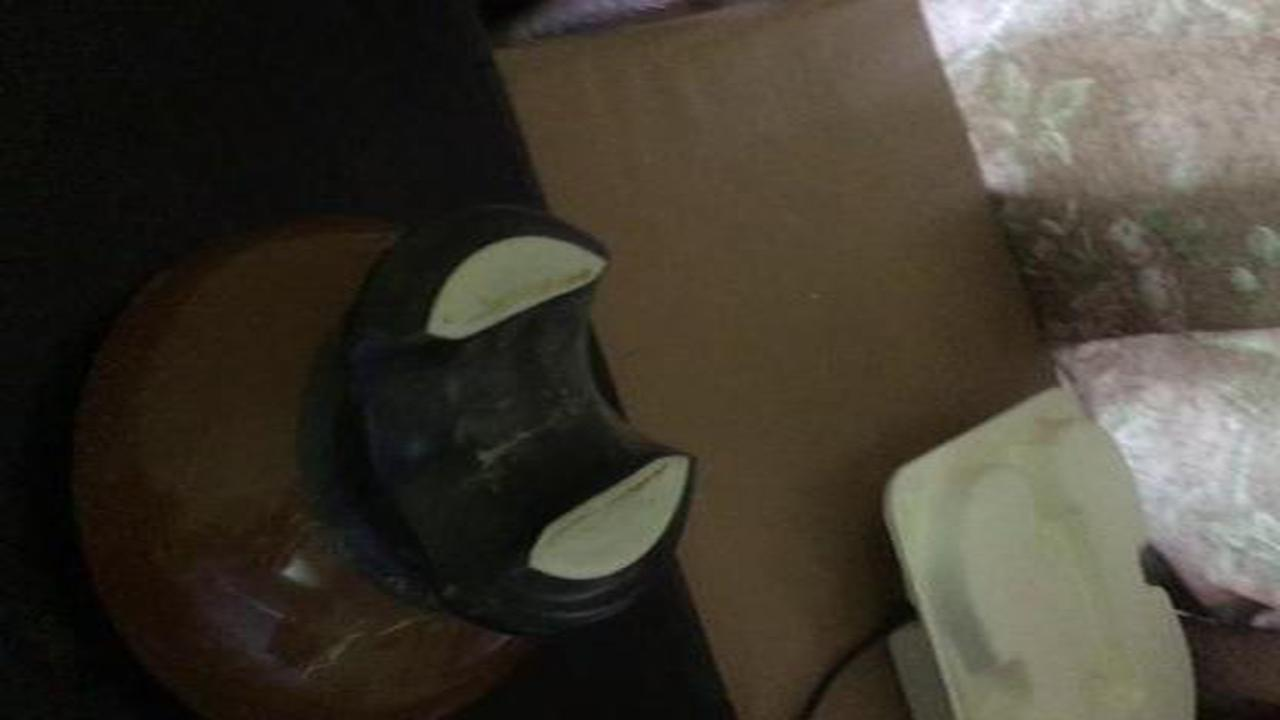insulator_pin: (74, 189, 717, 714)
